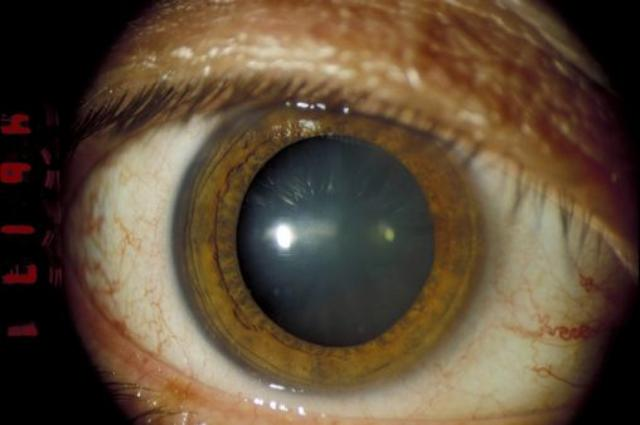eye: (170, 88, 490, 399)
